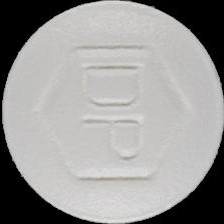54868-5922: (0, 0, 224, 224)
